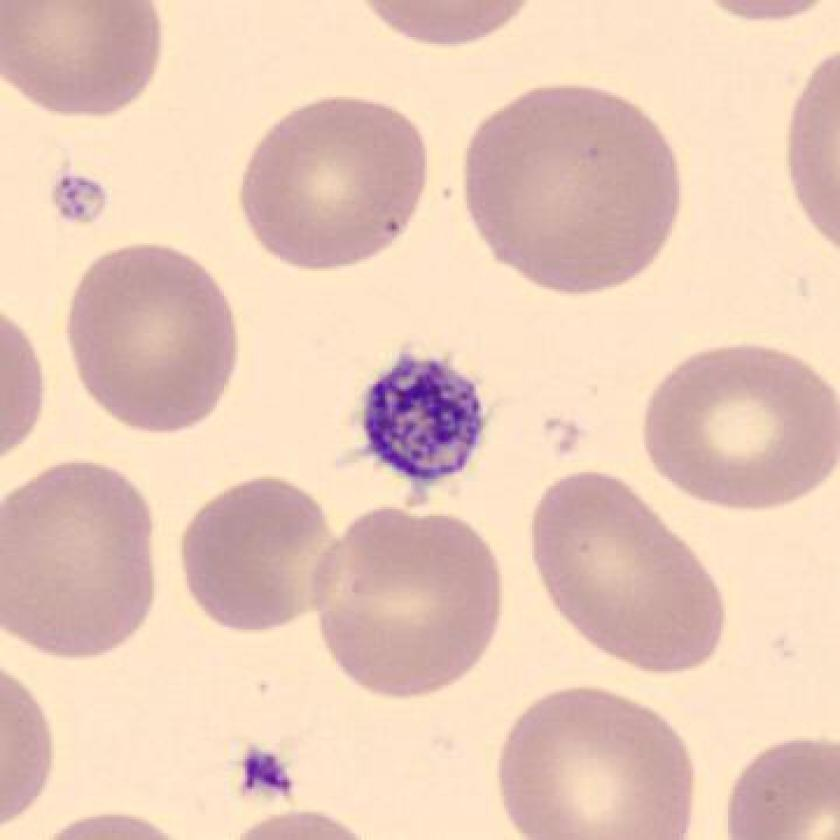platelets: (346, 341, 498, 494)
